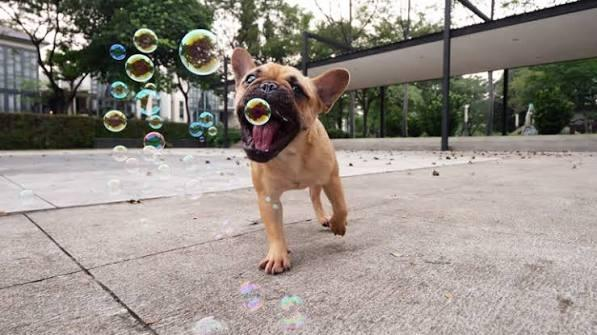puppy-dog: (232, 48, 352, 274)
